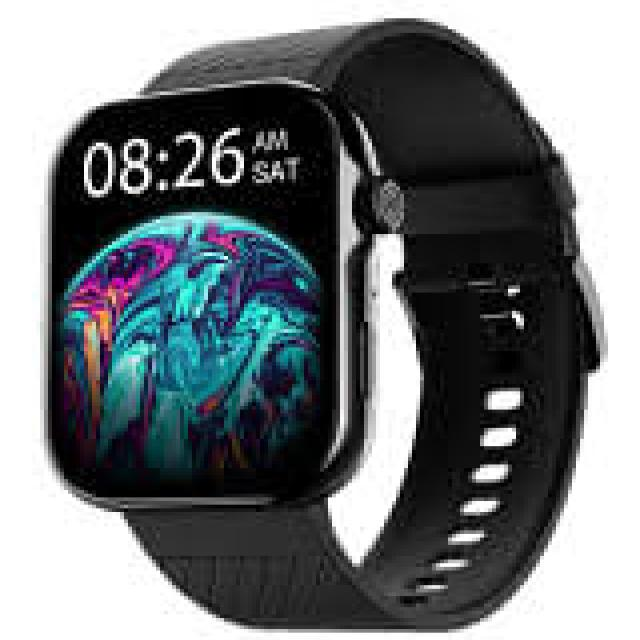objects: (39, 18, 600, 625)
